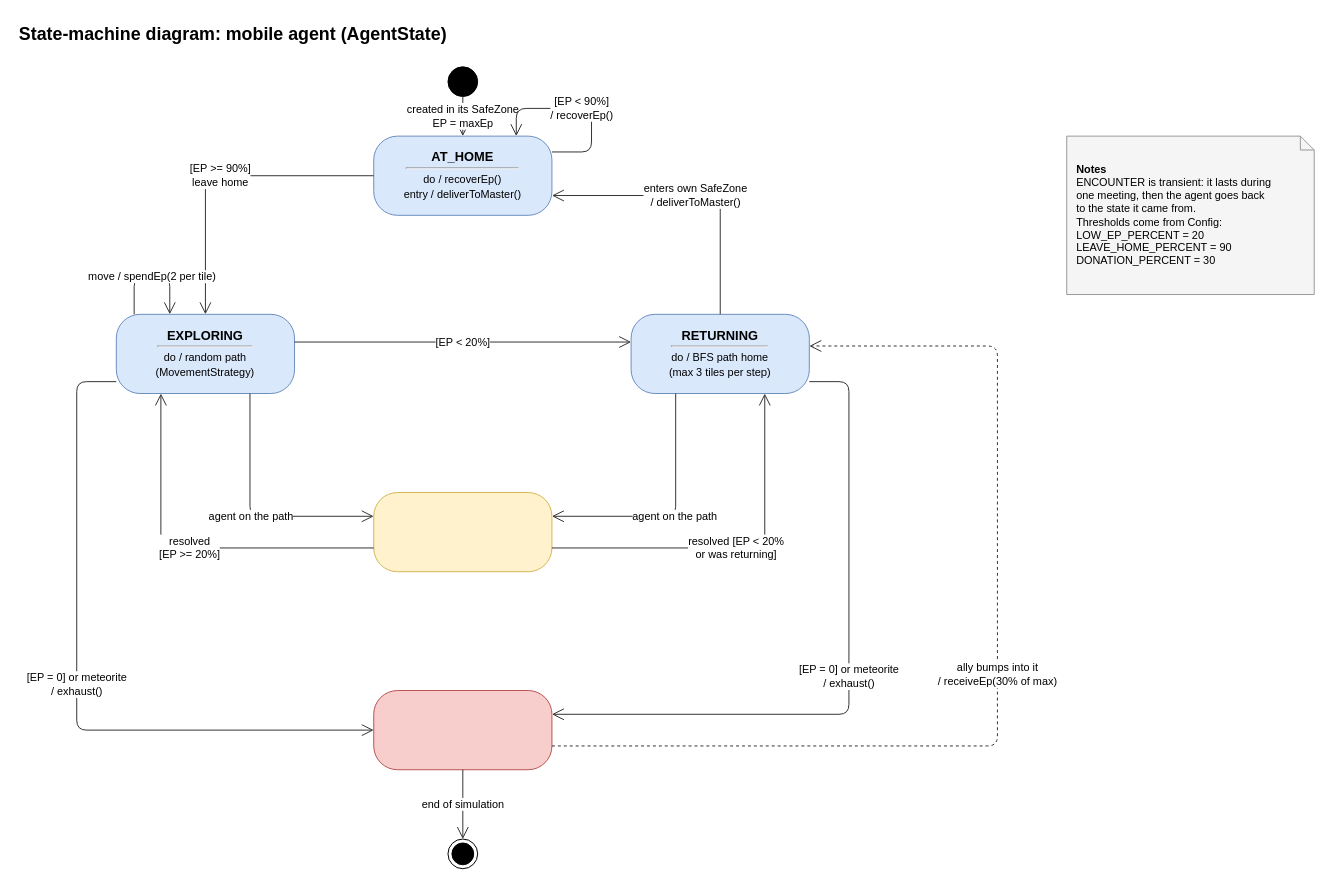
Some shapes in this 1332 by 886 pixel diagram are drawn without their labels. The box of each missing label's shape, as (x1, y1, x2, y2) in pixels:
ENCOUNTER union / ally share / rock-paper-scissors: (373, 492, 552, 572)
EXHAUSTED acts as an obstacle messages lost: (373, 690, 552, 770)
